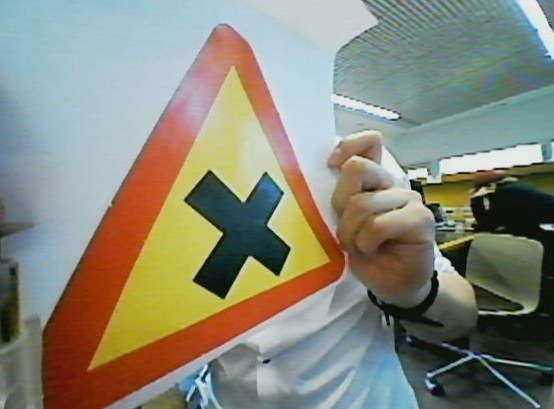junction: (18, 17, 344, 409)
